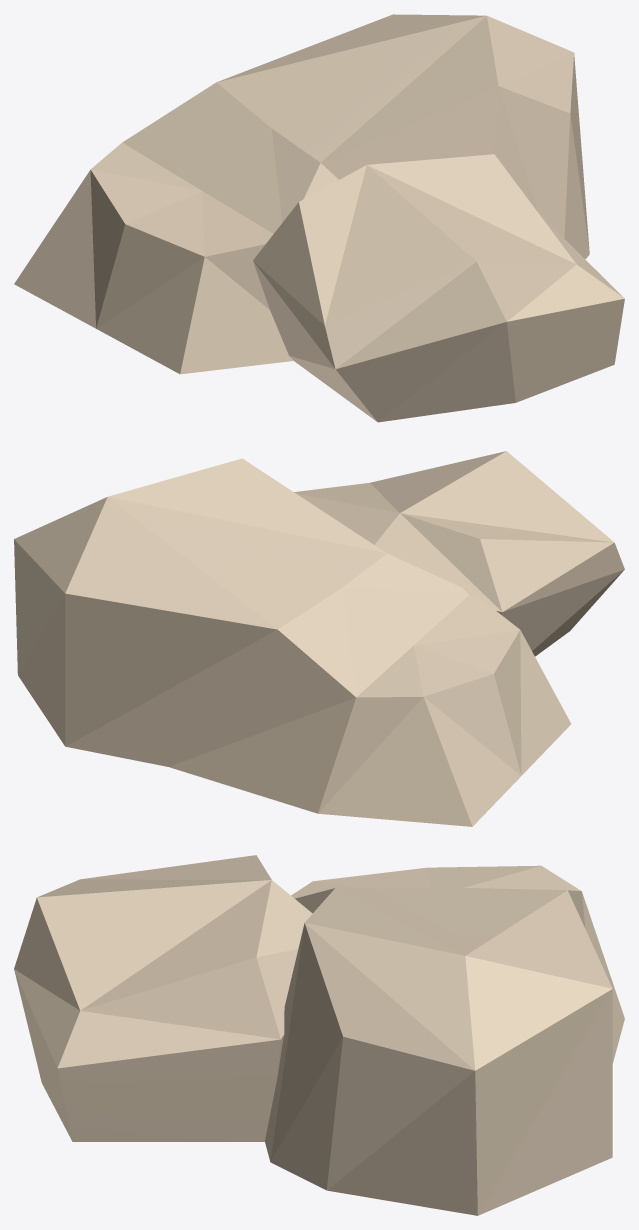
The model's file is rock_a.gltf.
3 renders of one model, top to bottom at view 1: azimuth 30°, elevation 25°; view 2: azimuth 150°, elevation 25°; view 3: azimuth 270°, elevation 25°, orthographic. The views are drawn at different scales.
Parts seen in each view (by area): view 1: rock_a001; view 2: rock_a001; view 3: rock_a001.
Part boxes in pixels (x1,y1,x2,y2): rock_a001: (14,14,624,422); rock_a001: (14,451,624,826); rock_a001: (14,855,624,1215).
Size of the model in its own units: 0.554 by 0.2064 by 0.5307.
1 material, 1 textured.
